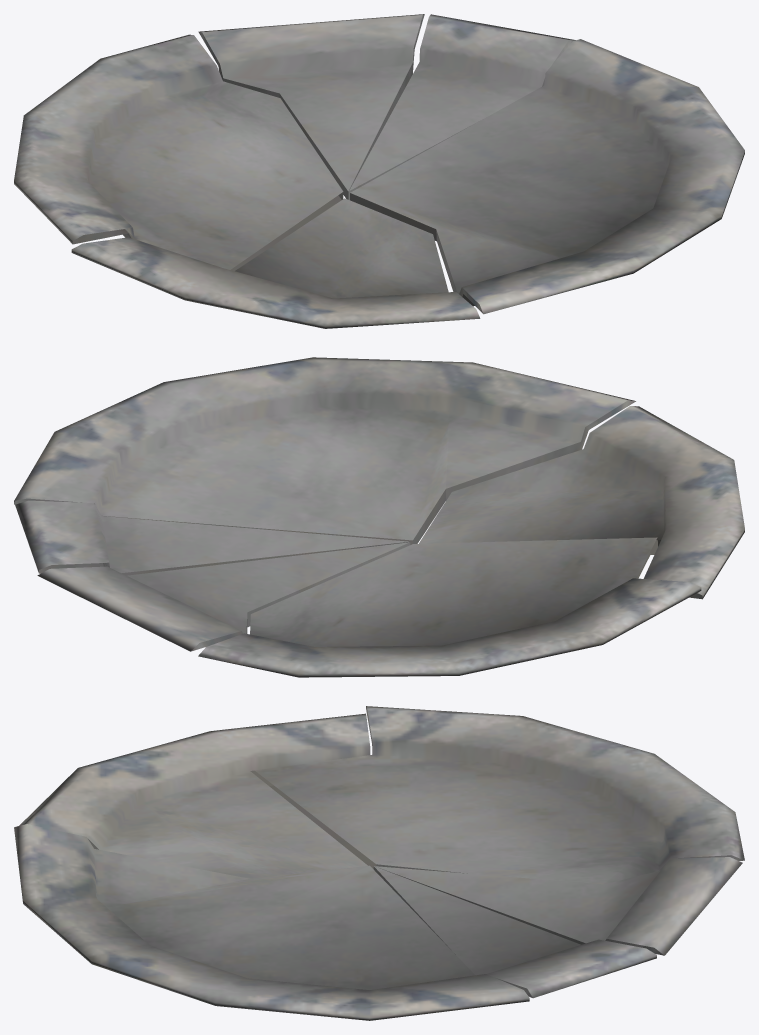
File: plate_broken.dae
3 renders of one model, top to bottom at view 1: azimuth 30°, elevation 25°; view 2: azimuth 150°, elevation 25°; view 3: azimuth 270°, elevation 25°, orthographic. The views are drawn at different scales.
Parts seen in each view (by area): view 1: lowerRight, upperLeft, lowerLeft, upperMiddle, upperRight; view 2: lowerRight, upperLeft, lowerLeft, upperMiddle, upperRight; view 3: upperLeft, lowerRight, lowerLeft, upperMiddle, upperRight.
Boxes of the visible parts, left/top/right/bottom form: lowerRight: left=350, top=39, right=744, bottom=314; upperLeft: left=14, top=34, right=343, bottom=271; lowerLeft: left=71, top=198, right=480, bottom=328; upperMiddle: left=198, top=14, right=424, bottom=199; upperRight: left=349, top=14, right=575, bottom=200; lowerRight: left=14, top=357, right=635, bottom=544; upperLeft: left=198, top=537, right=701, bottom=677; lowerLeft: left=419, top=406, right=744, bottom=599; upperMiddle: left=37, top=542, right=410, bottom=651; upperRight: left=15, top=500, right=409, bottom=575; upperLeft: left=255, top=706, right=744, bottom=884; lowerRight: left=14, top=824, right=529, bottom=1020; lowerLeft: left=19, top=713, right=370, bottom=878; upperMiddle: left=375, top=857, right=742, bottom=955; upperRight: left=373, top=866, right=656, bottom=998.
Bounding box in the file's own units: 0.3453 × 0.0215 × 0.3428.
